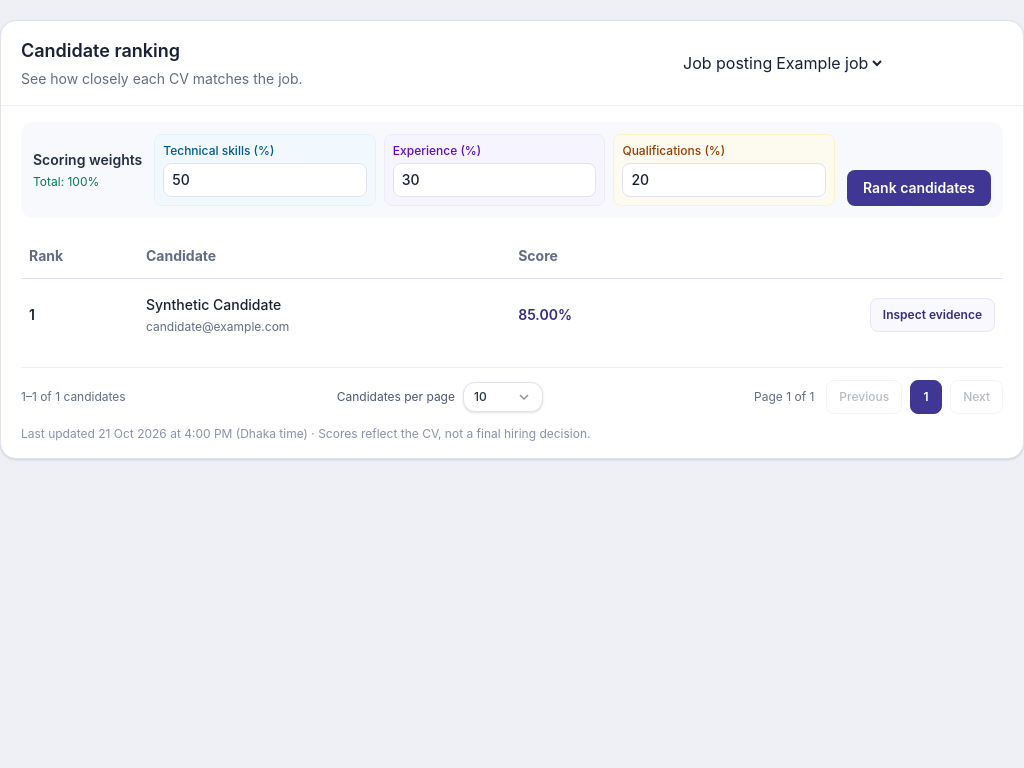
Test: closes evidence on Escape and backdrop click
This screenshot has width=1024, height=768.
Click the button named "Inspect evidence for Synthetic Candidate": (932, 315) [870,298,995,332]
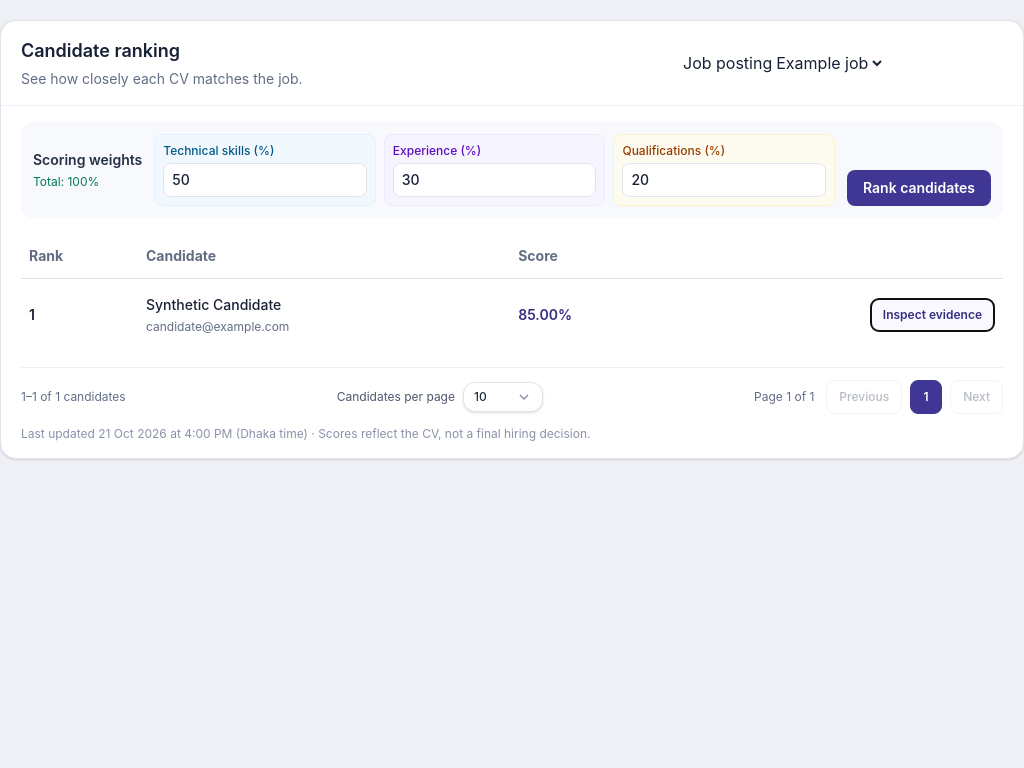
Click the button named "Inspect evidence for Synthetic Candidate": (932, 315) [870,298,995,332]
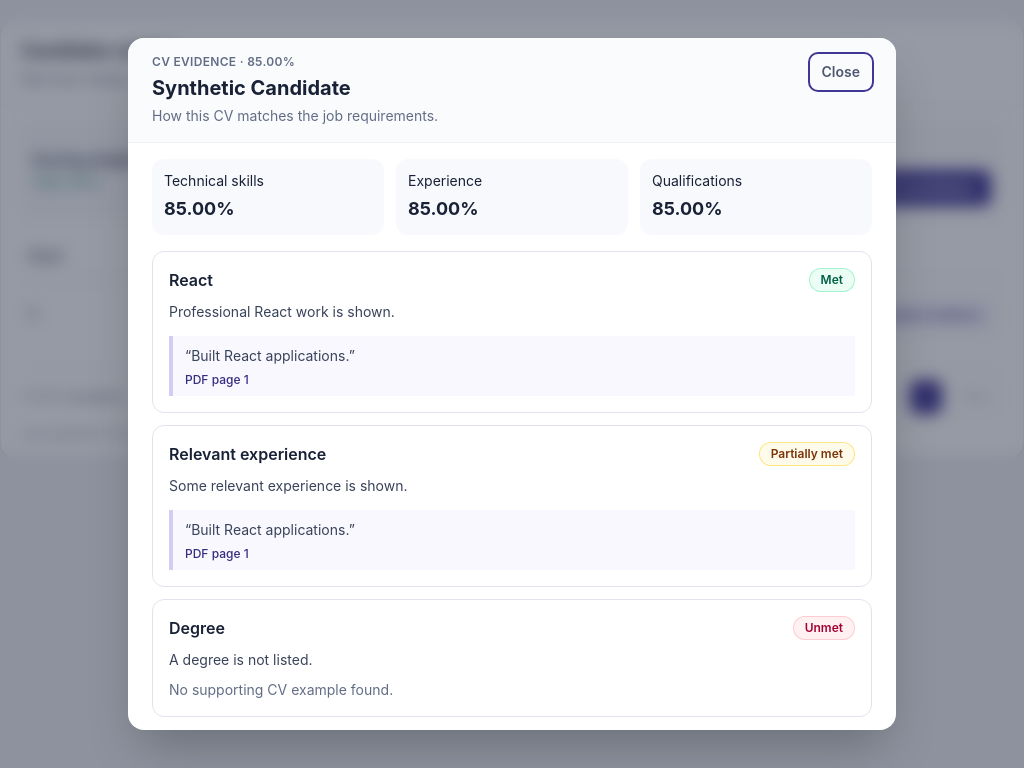
Click the dialog: (512, 384) [128,38,896,730]
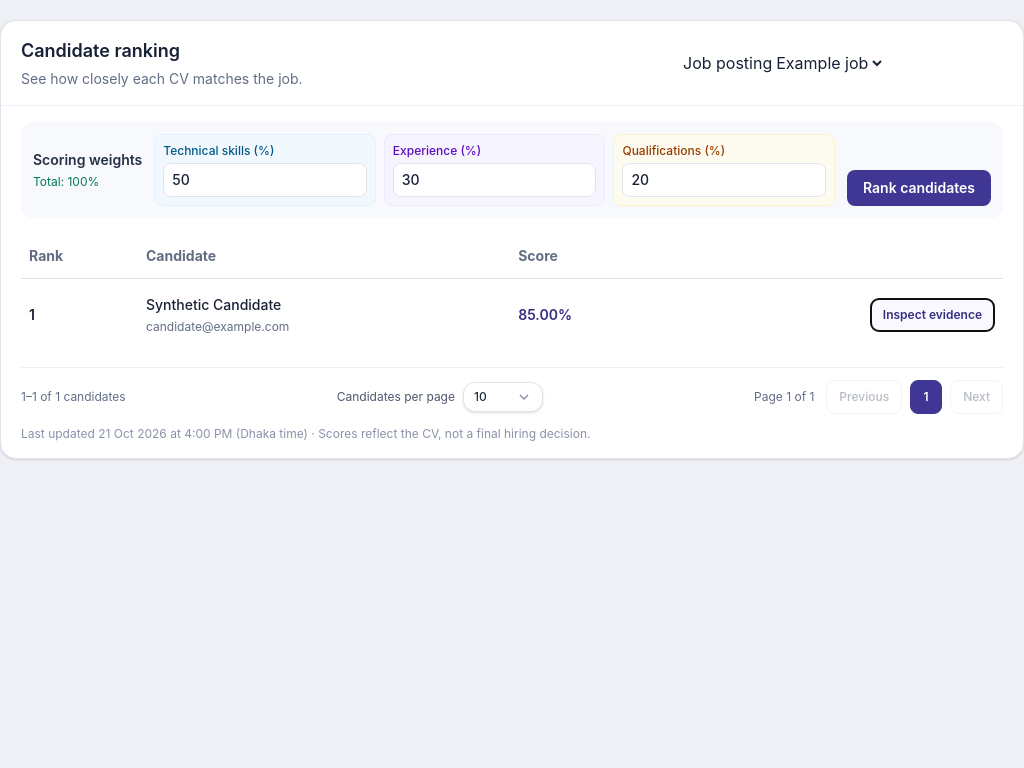
Check: the dialog is gone
